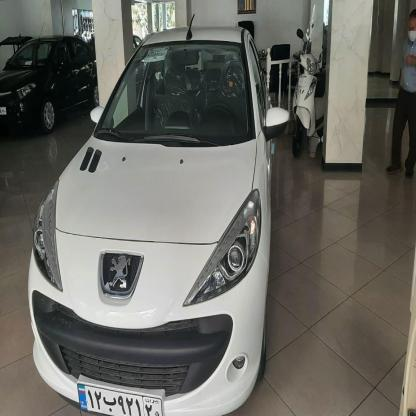Car: (24, 9, 279, 416), (0, 24, 90, 149)
